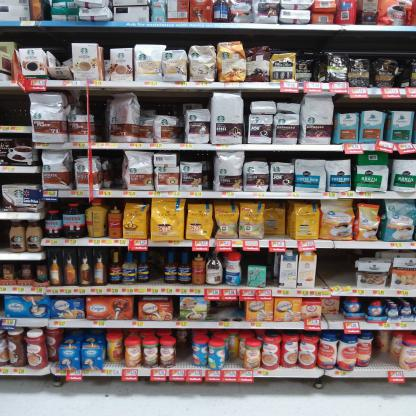Void: (320, 250, 354, 286), (142, 94, 179, 113), (2, 95, 26, 121), (108, 150, 123, 189), (177, 338, 194, 370), (374, 349, 395, 369)
